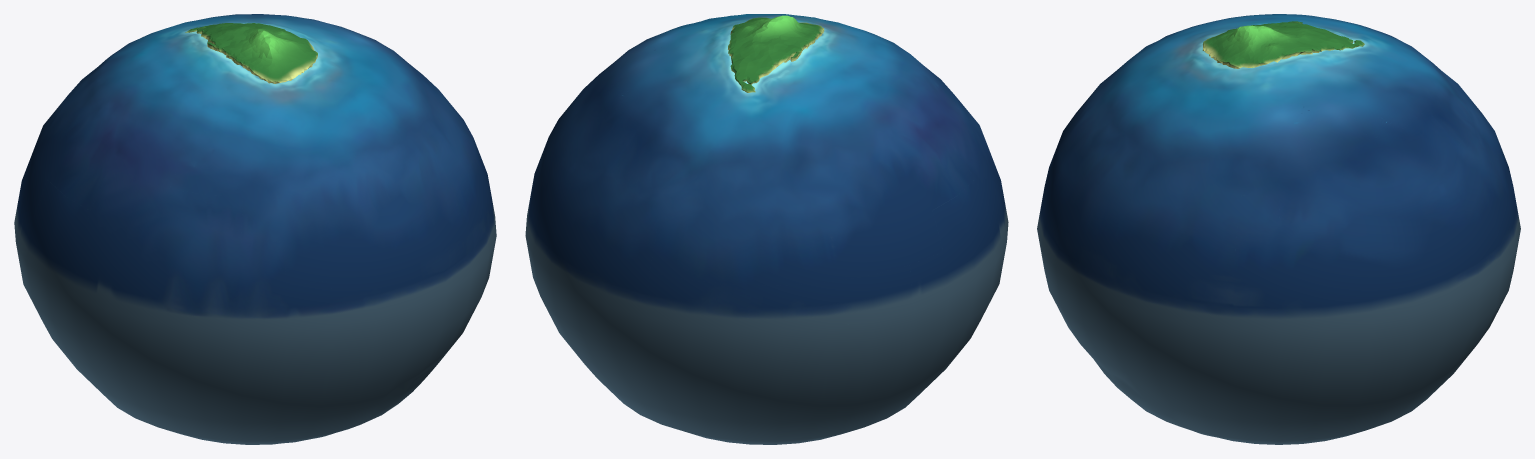
The model's file is SriLankaMap.glb.
3 views of the same model, side by side, from view 1: azimuth 30°, elevation 25°; view 2: azimuth 150°, elevation 25°; view 3: azimuth 270°, elevation 25° (orthographic).
Parts seen in each view (by area): view 1: globe, SL_Island; view 2: globe, SL_Island; view 3: globe, SL_Island.
Boxes of the visible parts, box(x1,y1,x2,y2) form: globe: box(14, 14, 496, 444); SL_Island: box(185, 23, 317, 83); globe: box(525, 14, 1008, 444); SL_Island: box(728, 15, 824, 92); globe: box(1037, 14, 1520, 444); SL_Island: box(1202, 21, 1364, 68).
Bounding box in the file's own units: 11.5 × 10.26 × 11.5.
Materials: 2 (2 with a texture image).
